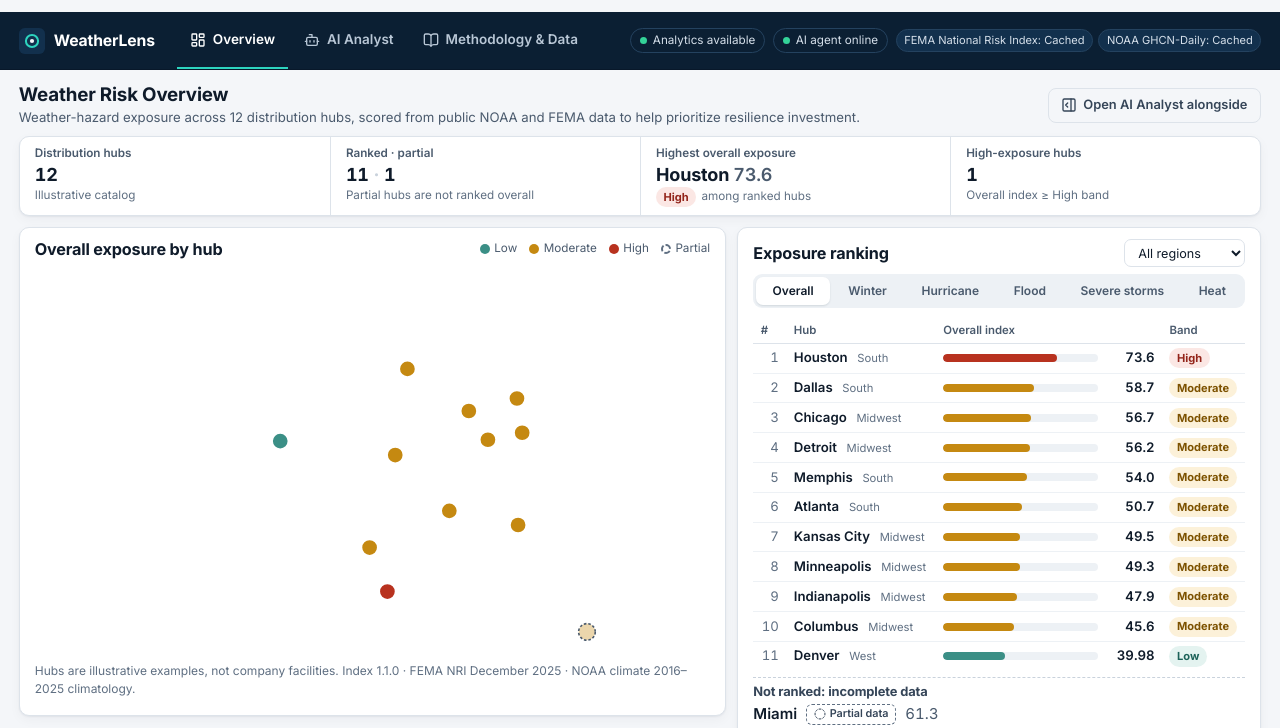
Test case: AI Analyst › shows the message immediately, a loading state, blocks duplicates, then renders structured results
Click the button "AI Analyst": point(349, 40) 292,12 -> 406,69
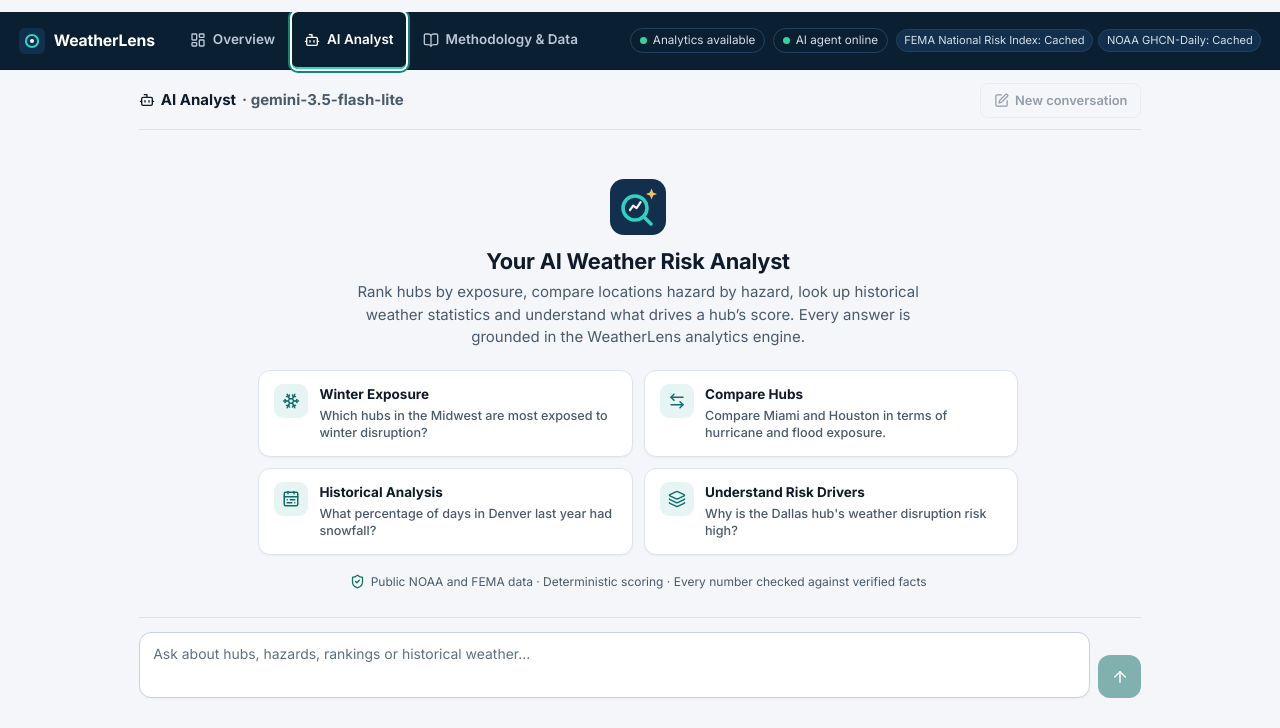
Click the button that starts with "Historical Analysis": point(445, 511) 258,468 -> 632,555
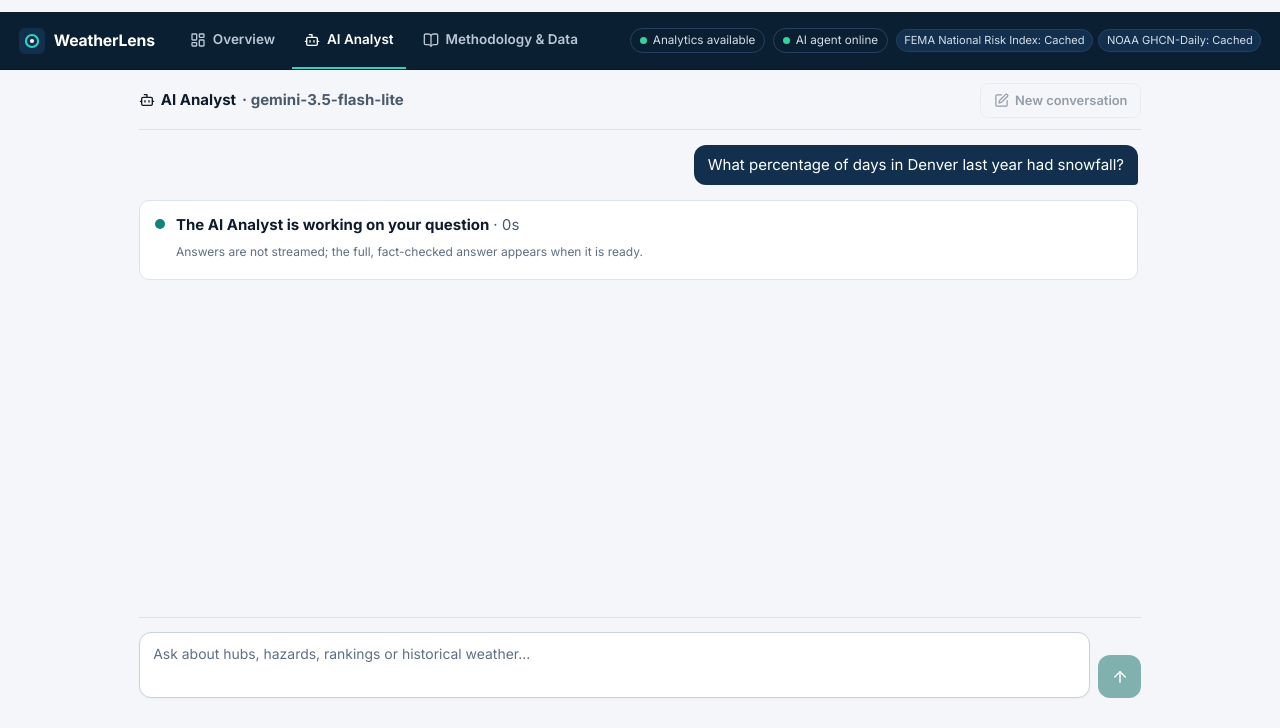
expect the text "What percentage of days in Denver last year had snowfall?" is shown: met, box 708,154 -> 1124,176
expect the button named "Send question" is disabled: met, box 1098,655 -> 1141,698
expect the message shows "The AI Analyst is working on your question": met, box 176,215 -> 489,234
In the text box: point(615, 665) 139,632 -> 1090,698, type "Compare Miami and Houston"
Then press Enter
(page scrolled)
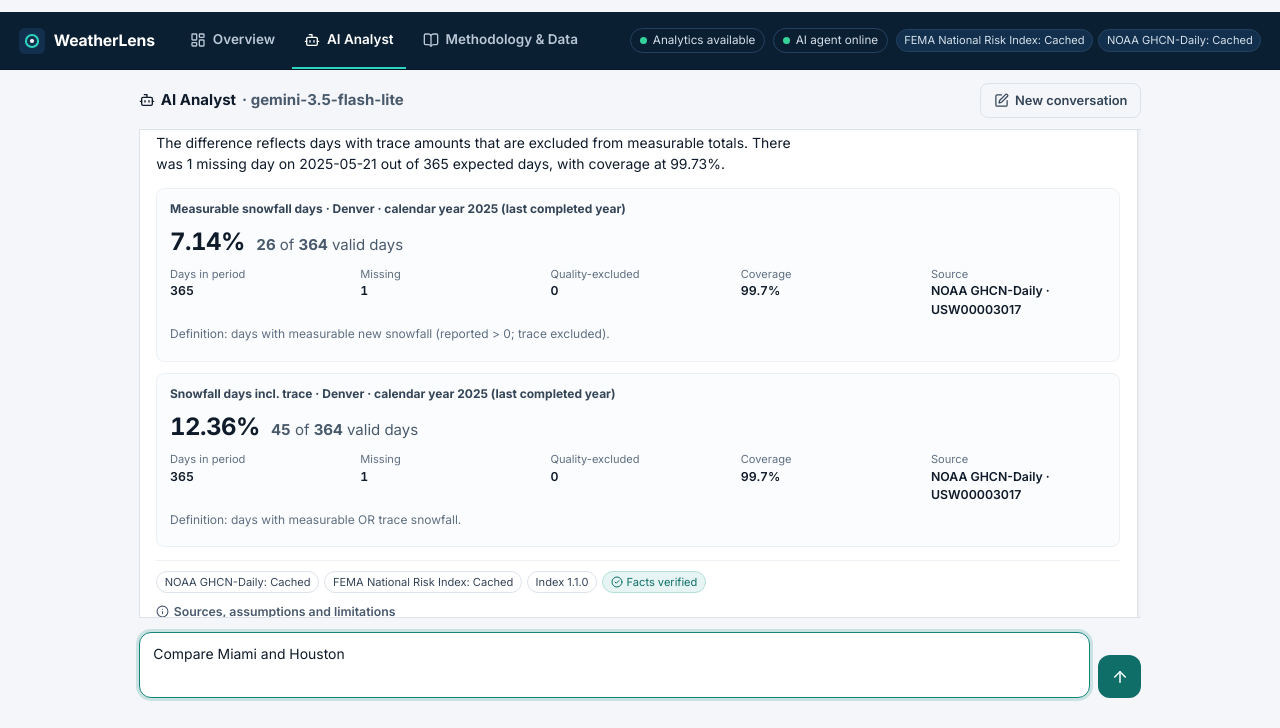
expect the element named "AI Analyst answer" shows "7.14%": met, box 170,227 -> 245,256
expect the element named "AI Analyst answer" shows "12.36%": met, box 170,412 -> 260,441
expect the element named "AI Analyst answer" shows "NOAA GHCN-Daily": met, box 931,283 -> 1043,298
